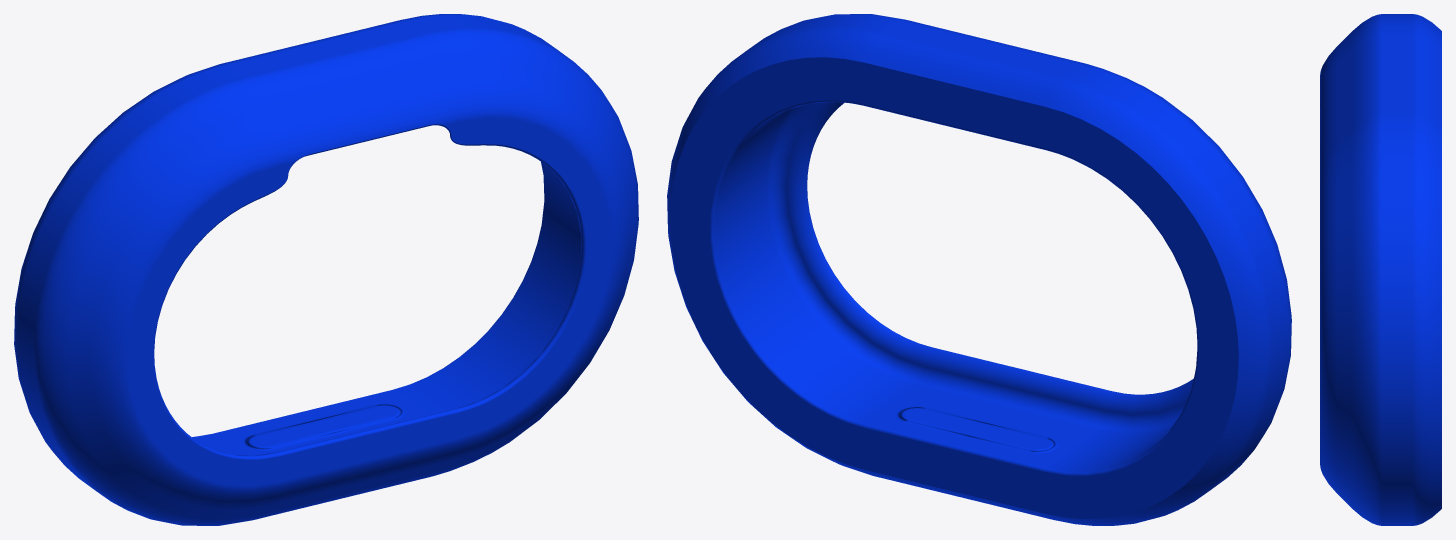
File: P08 - Grip Extension Top v1.0 (0.2 Layer Height).obj
The picture shows the model from 3 angles, left to right: view 1: azimuth 30°, elevation 25°; view 2: azimuth 150°, elevation 25°; view 3: azimuth 270°, elevation 25°; orthographic projection. The views are drawn at different scales.
Visible parts, largest first — view 1: Body1; view 2: Body1; view 3: Body1.
Boxes of the visible parts, bbox=[...] form: Body1: bbox=[14, 14, 638, 525]; Body1: bbox=[667, 14, 1291, 525]; Body1: bbox=[1320, 14, 1441, 525].
Bounding box in the file's own units: 10.03 × 7.03 × 1.98.
